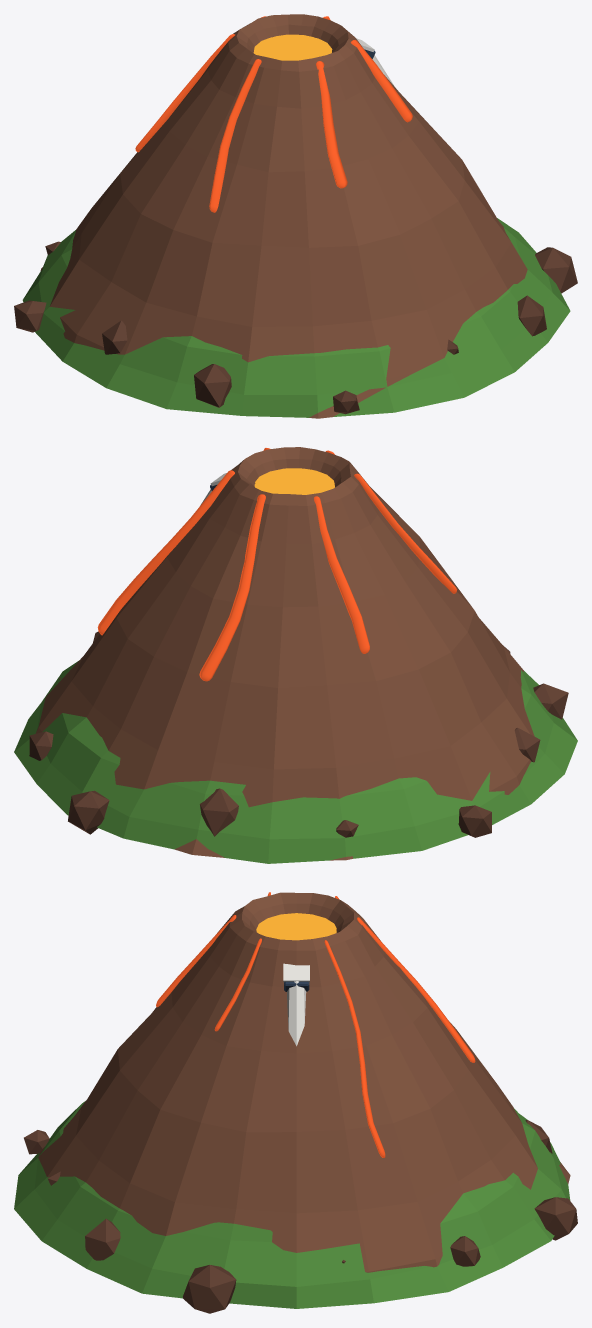
The model's file is props.glb.
3 views of the same model, one above another, from view 1: azimuth 30°, elevation 25°; view 2: azimuth 150°, elevation 25°; view 3: azimuth 270°, elevation 25° (orthographic). The views are drawn at different scales.
Parts seen in each view (by area): view 1: volcano_mesh; view 2: volcano_mesh; view 3: volcano_mesh, olympic_mesh.
Part boxes in pixels (<box>): volcano_mesh: <box>14,14,577,418</box>; volcano_mesh: <box>14,447,577,863</box>; volcano_mesh: <box>14,892,577,1313</box>; olympic_mesh: <box>283,963,309,1046</box>.
Bounding box in the file's own units: 356 × 203 × 359.
Materials: 5 (4 with a texture image).
